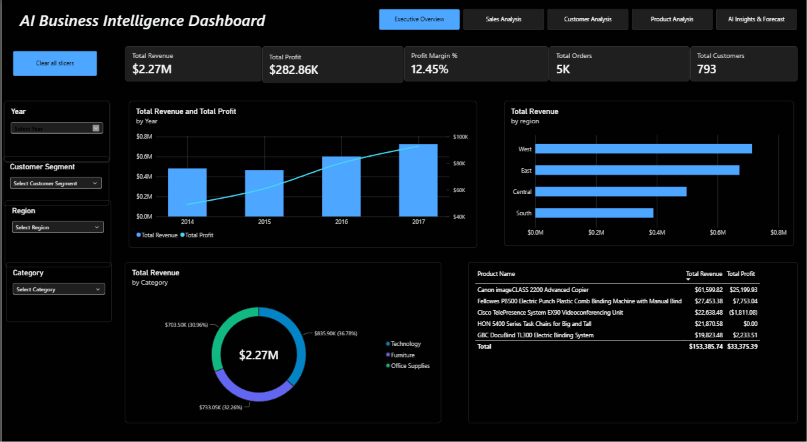

This screenshot's page, from the dashboard's own definition file:
{"tool":"powerbi","page":{"name":"Executive Overview","canvas":[1920,1080],"ordinal":0},"visuals":[{"type":"textbox","box":[2.4,31,665.7,74],"z":0},{"type":"group","id":"g1","title":"Group 3","box":[302.7,251.6,1587.4,350.7],"z":1000},{"type":"cardVisual","fields":{"Data":["key Measures (2).Total Revenue"]},"box":[293.5,119.3,326.9,85.9],"z":2000},{"type":"cardVisual","fields":{"Data":["key Measures (2).Total Profit"]},"box":[620.3,119.3,338.8,88.3],"z":3000},{"type":"listSlicer","fields":{"Values":["DateTable.Year"]},"box":[5.7,250.5,252.9,145.5],"z":3000,"group":"g3"},{"type":"cardVisual","fields":{"Data":["key Measures (2).Total Customers"]},"box":[1641.5,119.3,257.7,85.9],"z":4000},{"type":"listSlicer","fields":{"Values":["ai_customer_segments.ai_segment"]},"box":[2.4,382.3,252.9,119.3],"z":5000,"group":"g3"},{"type":"group","id":"g2","title":"Group 4","box":[293.5,634.7,1605.7,384.1],"z":5000},{"type":"cardVisual","fields":{"Data":["key Measures (2).Profit Margin %"]},"box":[959.1,119.3,346,85.9],"z":6000},{"type":"lineClusteredColumnComboChart","fields":{"Category":["DateTable.Year"],"Y":["key Measures (2).Total Revenue"],"Y2":["key Measures (2).Total Profit"]},"box":[302.7,251.6,830.3,350.7],"z":6000,"group":"g1"},{"type":"pageNavigator","box":[899.5,31,1000,50],"z":7000},{"type":"donutChart","fields":{"Category":["superstore_sales.category"],"Y":["key Measures (2).Total Revenue"]},"box":[293.5,634.7,753.9,384.1],"z":7000,"group":"g2"},{"type":"actionButton","box":[26.2,131.2,200.4,59.6],"z":8000},{"type":"clusteredBarChart","fields":{"Category":["superstore_sales.region"],"Y":["key Measures (2).Total Revenue"]},"box":[1198.2,251.6,691.9,346],"z":8000,"group":"g1"},{"type":"listSlicer","fields":{"Values":["superstore_sales.region"]},"box":[8.1,487.8,252.9,159.9],"z":8000,"group":"g3"},{"type":"group","id":"g3","title":"Group 1","box":[2.4,250.5,260.1,527.3],"z":9000},{"type":"tableEx","fields":{"Values":["superstore_sales.product_name","key Measures (2).Total Revenue","key Measures (2).Total Profit"]},"box":[1111.9,634.7,787.4,384.1],"z":9000,"group":"g2"},{"type":"cardVisual","fields":{"Data":["key Measures (2).Total Orders"]},"box":[1305.1,119.3,336.4,85.9],"z":10000},{"type":"listSlicer","fields":{"Values":["superstore_sales.category"]},"box":[9.4,633.9,252.9,143.2],"z":10000,"group":"g3"}]}

Visuals, with their boxes in screenshot pixels (x1, y1, x2, y2), scaled from the page's 1920x1080 canvas onto the 807x442 screenshot:
textbox: [1, 13, 281, 43]
"Group 3" group: [127, 103, 794, 246]
cardVisual - key Measures (2).Total Revenue: [123, 49, 261, 84]
cardVisual - key Measures (2).Total Profit: [261, 49, 403, 85]
listSlicer - DateTable.Year: [2, 103, 109, 162]
cardVisual - key Measures (2).Total Customers: [690, 49, 798, 84]
listSlicer - ai_customer_segments.ai_segment: [1, 156, 107, 205]
"Group 4" group: [123, 260, 798, 417]
cardVisual - key Measures (2).Profit Margin %: [403, 49, 549, 84]
lineClusteredColumnComboChart - DateTable.Year x key Measures (2).Total Revenue: [127, 103, 476, 246]
pageNavigator: [378, 13, 798, 33]
donutChart - superstore_sales.category x key Measures (2).Total Revenue: [123, 260, 440, 417]
actionButton: [11, 54, 95, 78]
clusteredBarChart - superstore_sales.region x key Measures (2).Total Revenue: [504, 103, 794, 245]
listSlicer - superstore_sales.region: [3, 200, 110, 265]
"Group 1" group: [1, 103, 110, 318]
tableEx - superstore_sales.product_name x key Measures (2).Total Revenue: [467, 260, 798, 417]
cardVisual - key Measures (2).Total Orders: [549, 49, 690, 84]
listSlicer - superstore_sales.category: [4, 259, 110, 318]
